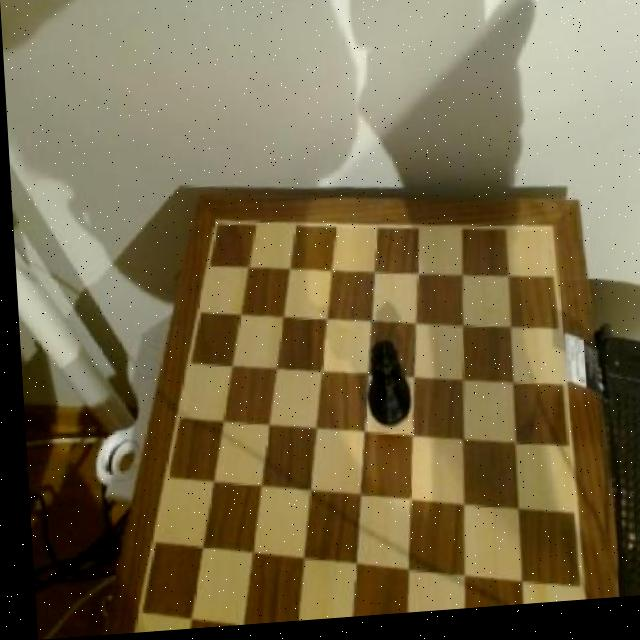black-pawn: (355, 344, 411, 439)
